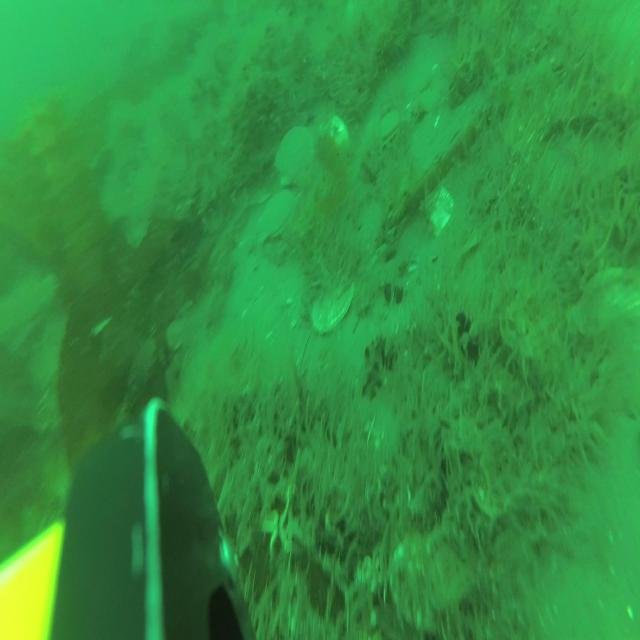scallop: (276, 126, 316, 188), (314, 274, 354, 330), (252, 188, 293, 242), (420, 188, 454, 232), (324, 119, 352, 155), (376, 110, 403, 145)
